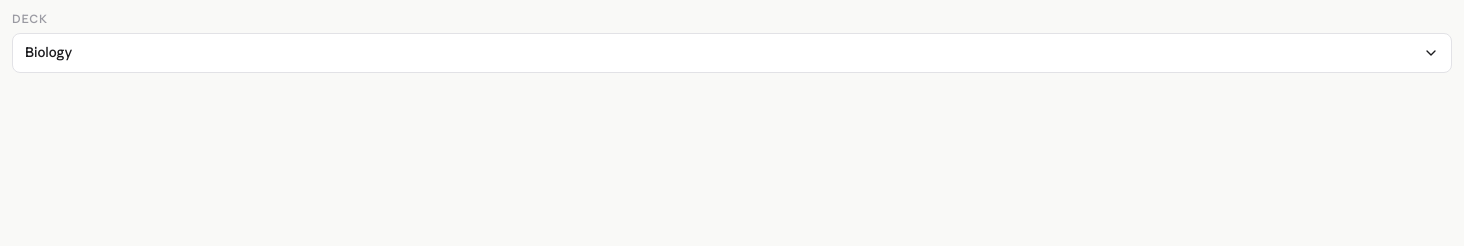
Test case: Select filters as you type and Enter picks
Click the button named "Deck" at coordinates (49, 52), box [12,33,1452,72]
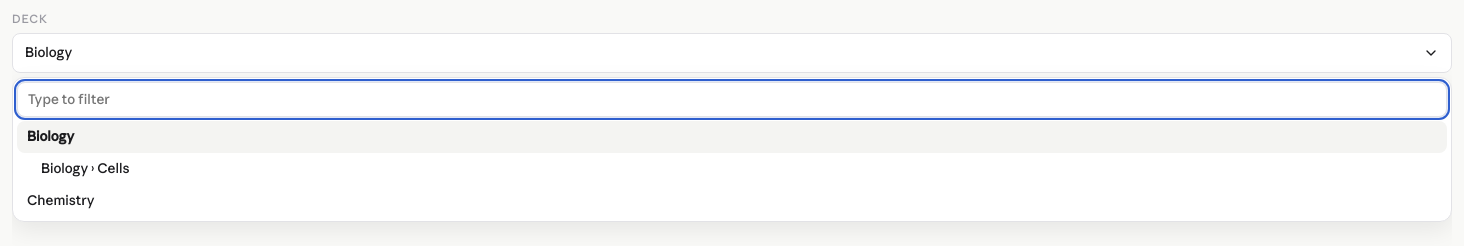
Type keys "cel"
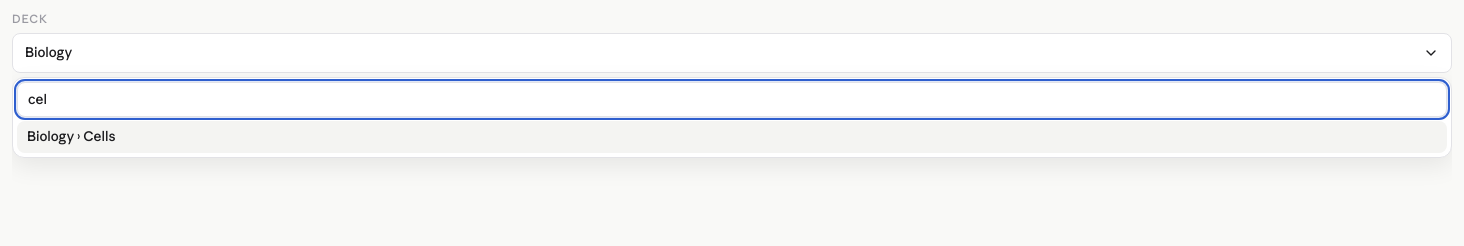
Expected: the options read "Biology › Cells", in this order, [17,121,1447,153]
Press Enter
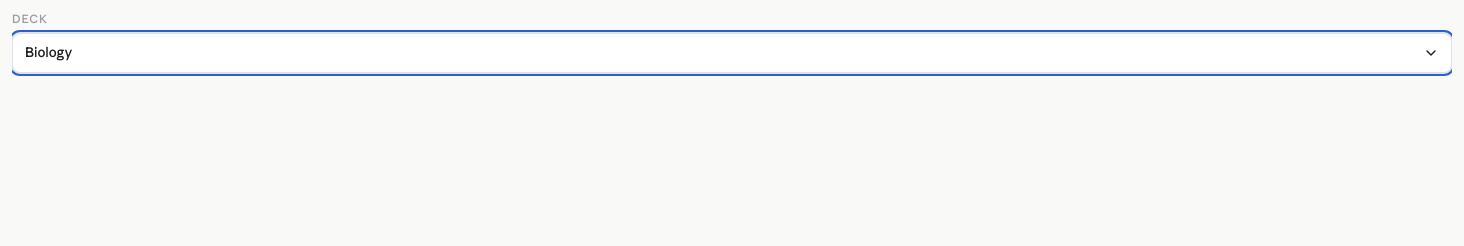
Expected: the list is gone
